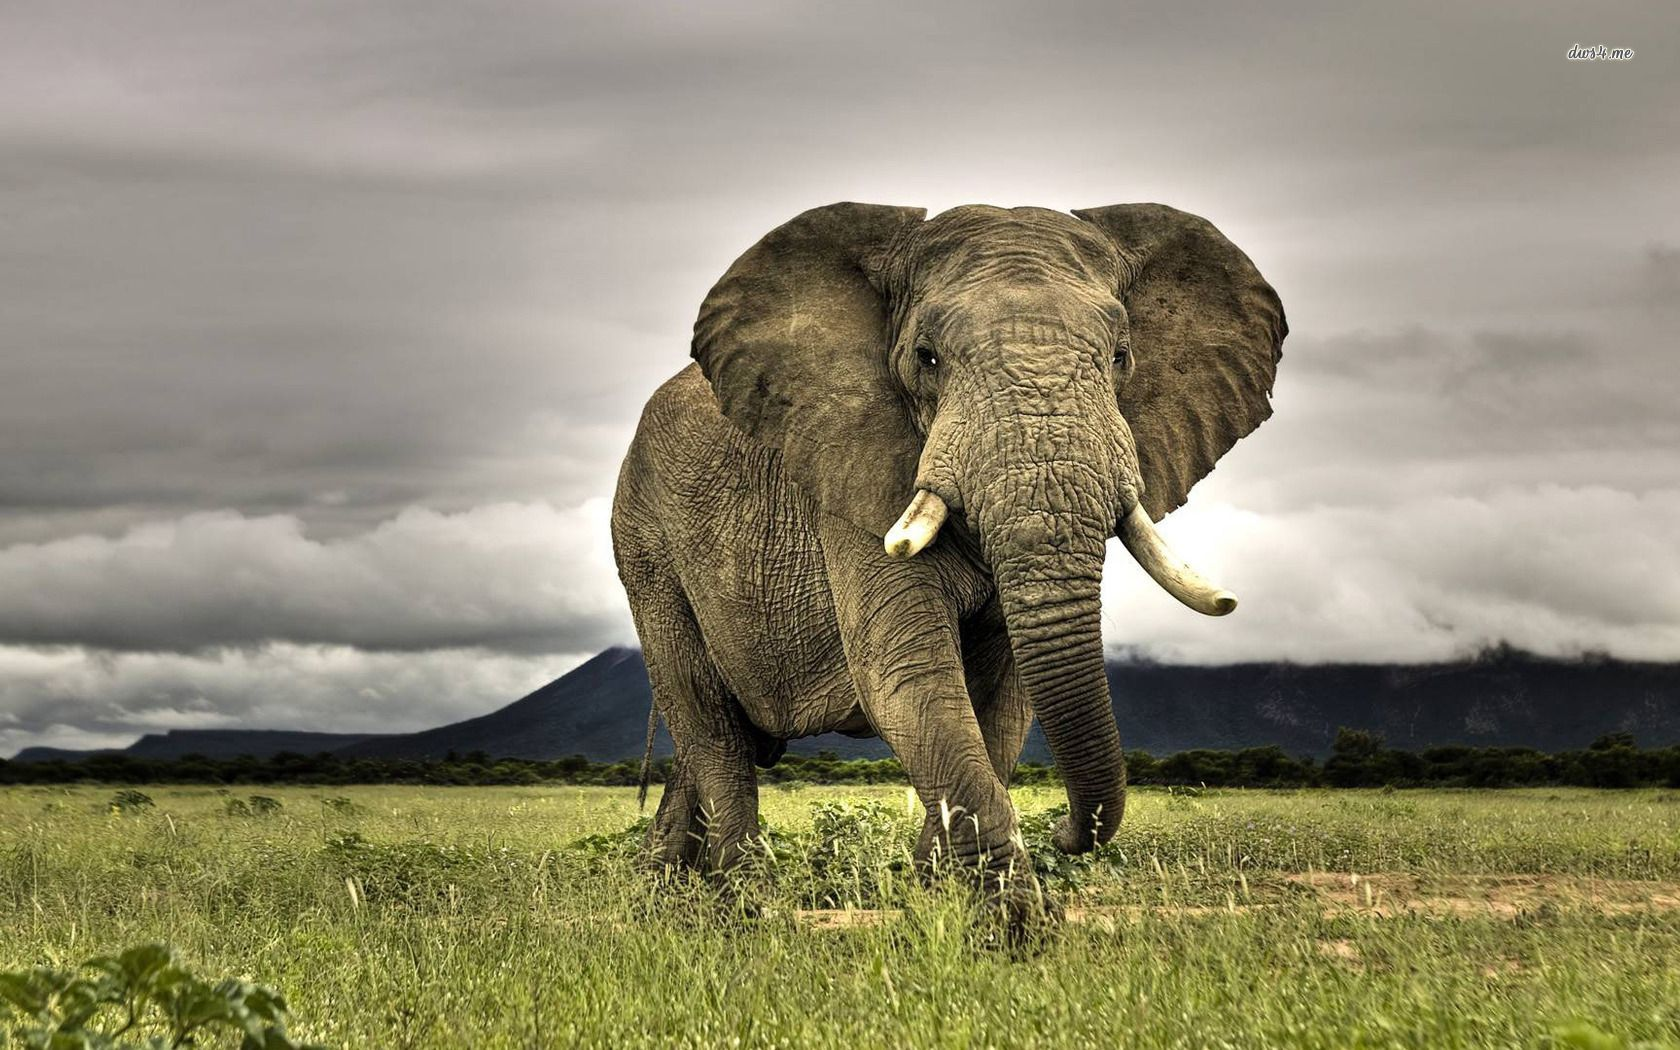africanelephant: (873, 192, 1247, 653)
